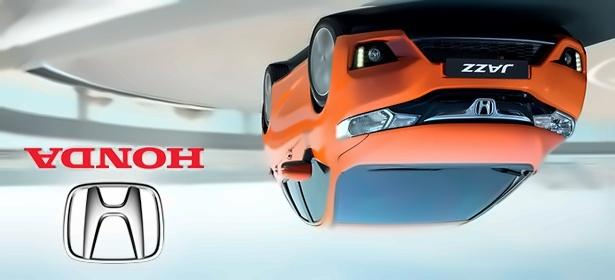Car hood: (332, 120, 568, 170)
Front bumper: (330, 23, 595, 119)
Headlight - -L-: (333, 106, 424, 144)
Headlight - -R-: (527, 101, 580, 139)
Passenger-s door - -F-L-: (289, 73, 338, 216)
Passenger-s door - -R-L-: (263, 81, 308, 221)
Side bumper - -L-: (266, 55, 314, 95)
Side mirror - -L-: (277, 154, 316, 186)
